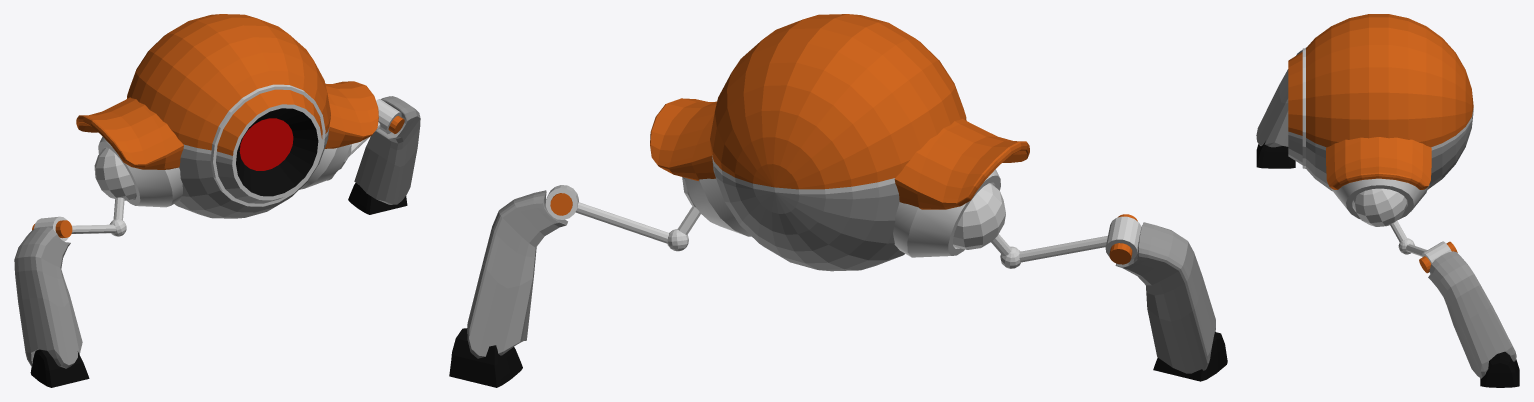
Rendered from Enemy_2Legs.obj.
The picture shows the model from 3 angles, left to right: view 1: azimuth 30°, elevation 25°; view 2: azimuth 150°, elevation 25°; view 3: azimuth 270°, elevation 25°; orthographic projection. The views are drawn at different scales.
Visible parts, largest first — view 1: Enemy_Robot_2Legs_Cube.003; view 2: Enemy_Robot_2Legs_Cube.003; view 3: Enemy_Robot_2Legs_Cube.003.
Boxes of the visible parts, x1=… form: Enemy_Robot_2Legs_Cube.003: x1=14, y1=14, x2=420, y2=387; Enemy_Robot_2Legs_Cube.003: x1=449, y1=14, x2=1227, y2=387; Enemy_Robot_2Legs_Cube.003: x1=1256, y1=14, x2=1519, y2=387.
Bounding box in the file's own units: 1.29 × 0.7112 × 0.6559.
